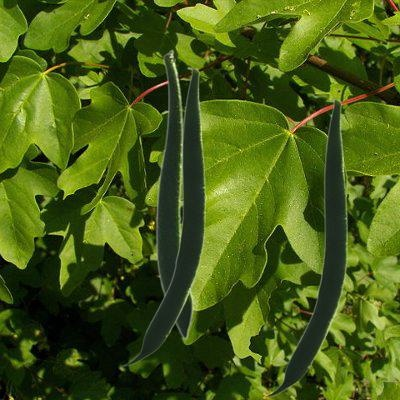french_bean: (122, 67, 204, 365), (264, 98, 346, 396), (155, 49, 193, 339)
